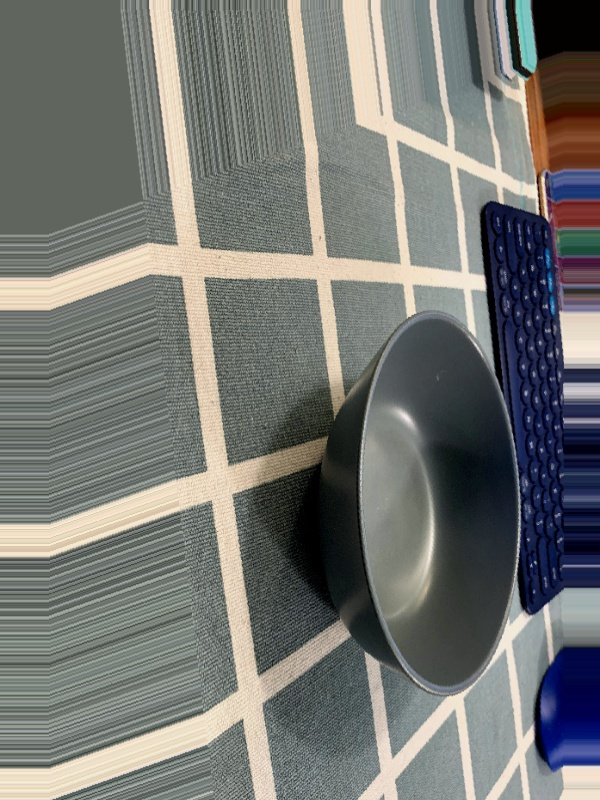bowl_big: (291, 278, 544, 744)
